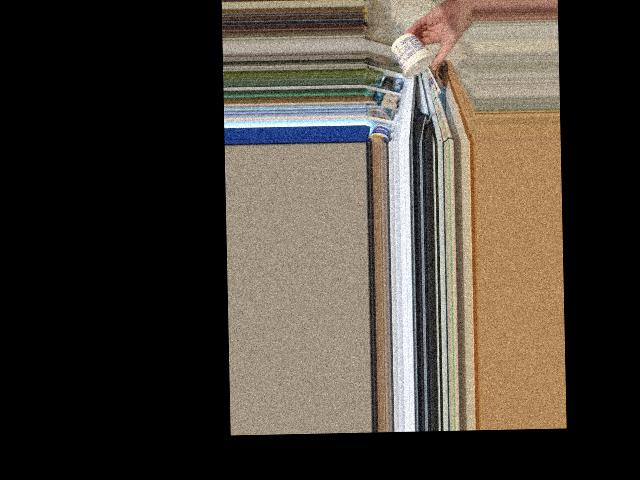cotage: (395, 30, 439, 76)
